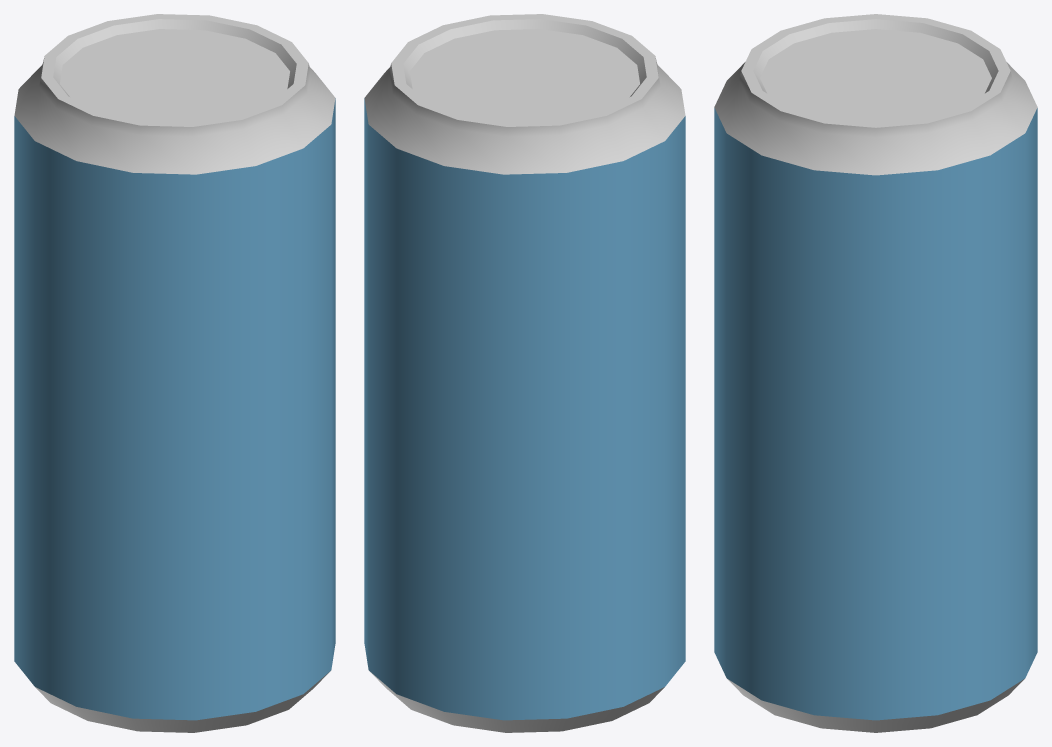
The model's file is can.fbx.
The picture shows the model from 3 angles, left to right: view 1: azimuth 30°, elevation 25°; view 2: azimuth 150°, elevation 25°; view 3: azimuth 270°, elevation 25°; orthographic projection.
Visible parts, largest first — view 1: Can; view 2: Can; view 3: Can.
Part boxes in pixels (left/top/right/bottom): Can: left=14, top=14, right=335, bottom=732; Can: left=364, top=14, right=685, bottom=732; Can: left=714, top=14, right=1037, bottom=732.
Size of the model in its own units: 11.75 by 24.12 by 11.75.
